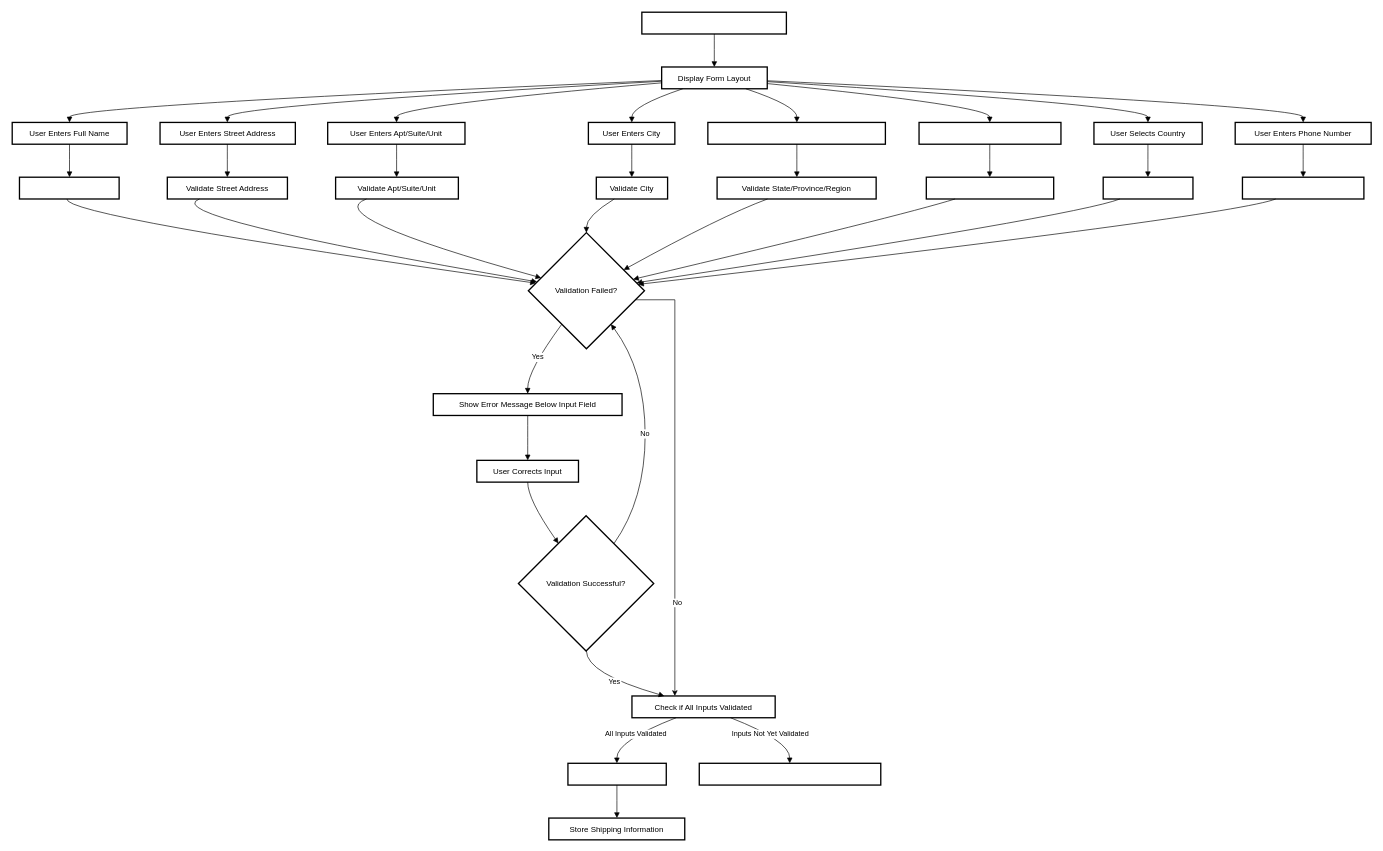
Some shapes in this 1383 by 851 pixel diagram are drawn without their labels. Each missing label, with the centre of its shape:
User Accesses Shipping Form: point (714, 22)
User Enters Postal/ZIP Code: point (989, 133)
User Selects State/Province/Region: point (796, 133)
User Submits Form: point (617, 773)
Validate Country: point (1147, 187)
Validate Full Name: point (68, 187)
Validate Phone Number: point (1302, 187)
Validate Postal/ZIP Code: point (989, 187)
Wait for User to Complete All Inputs: point (789, 773)
